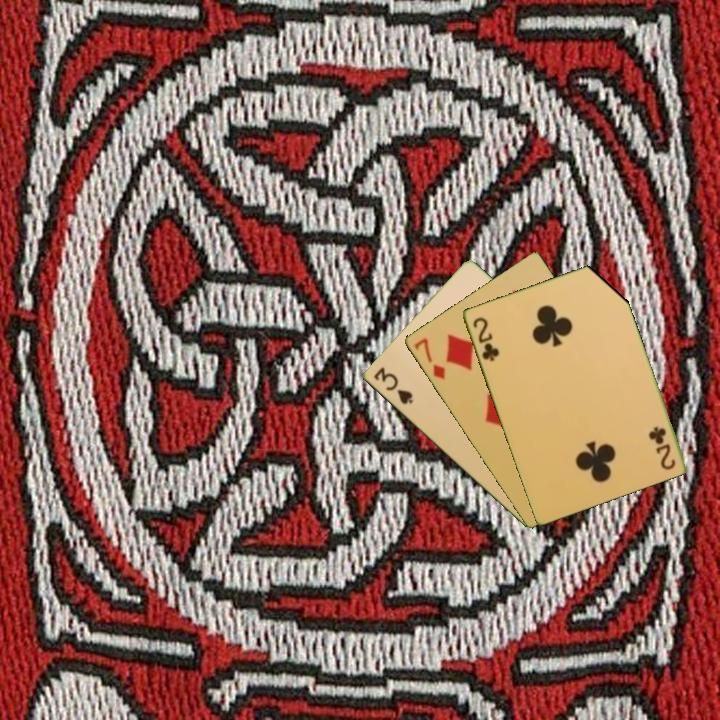2c: (469, 313, 502, 364), (646, 423, 678, 473)
3s: (370, 363, 416, 407)
7d: (410, 334, 448, 382)
